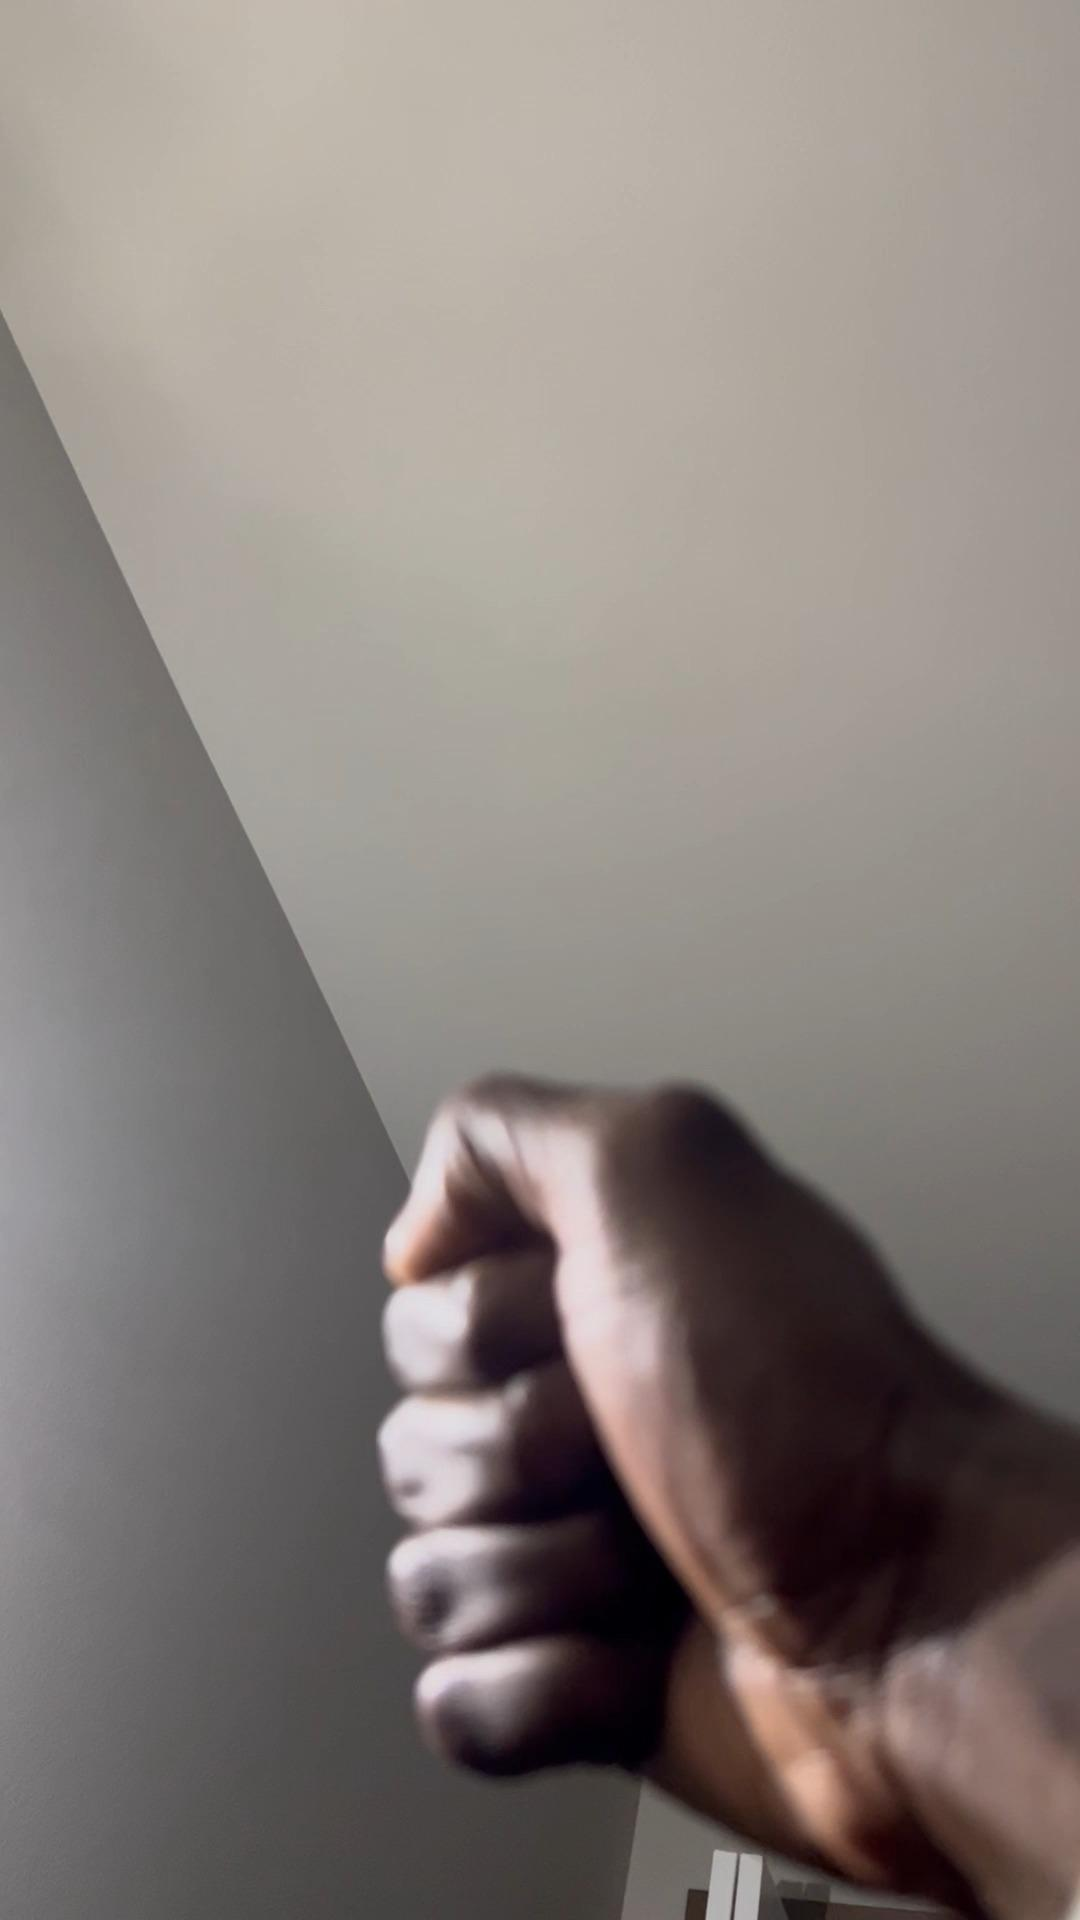Rock: (370, 1060, 1061, 1900)
